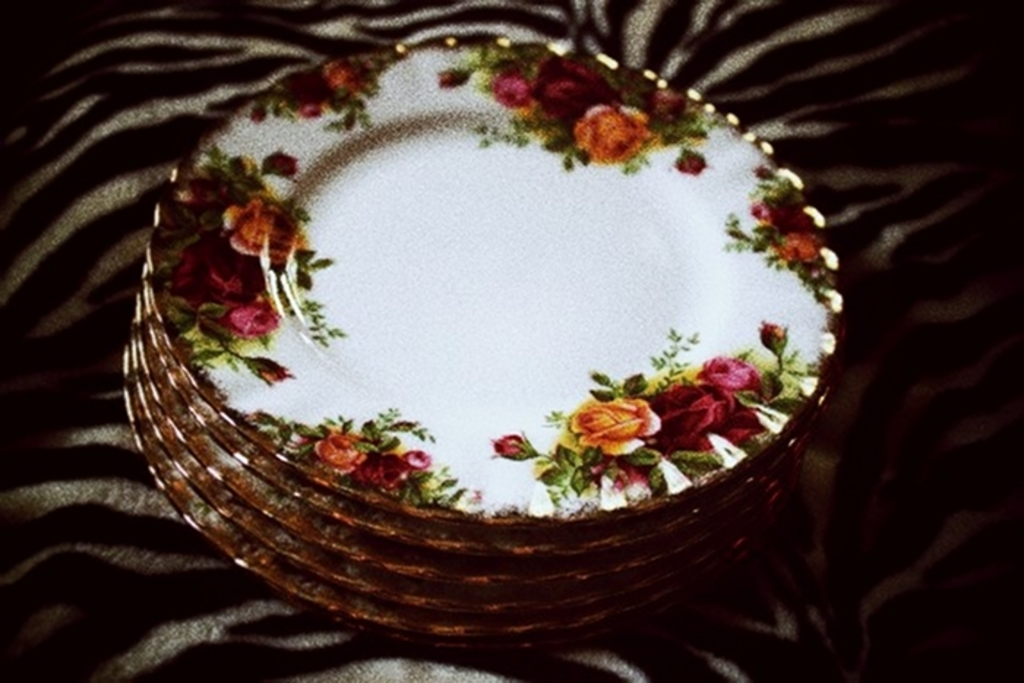plate: (114, 40, 849, 656)
